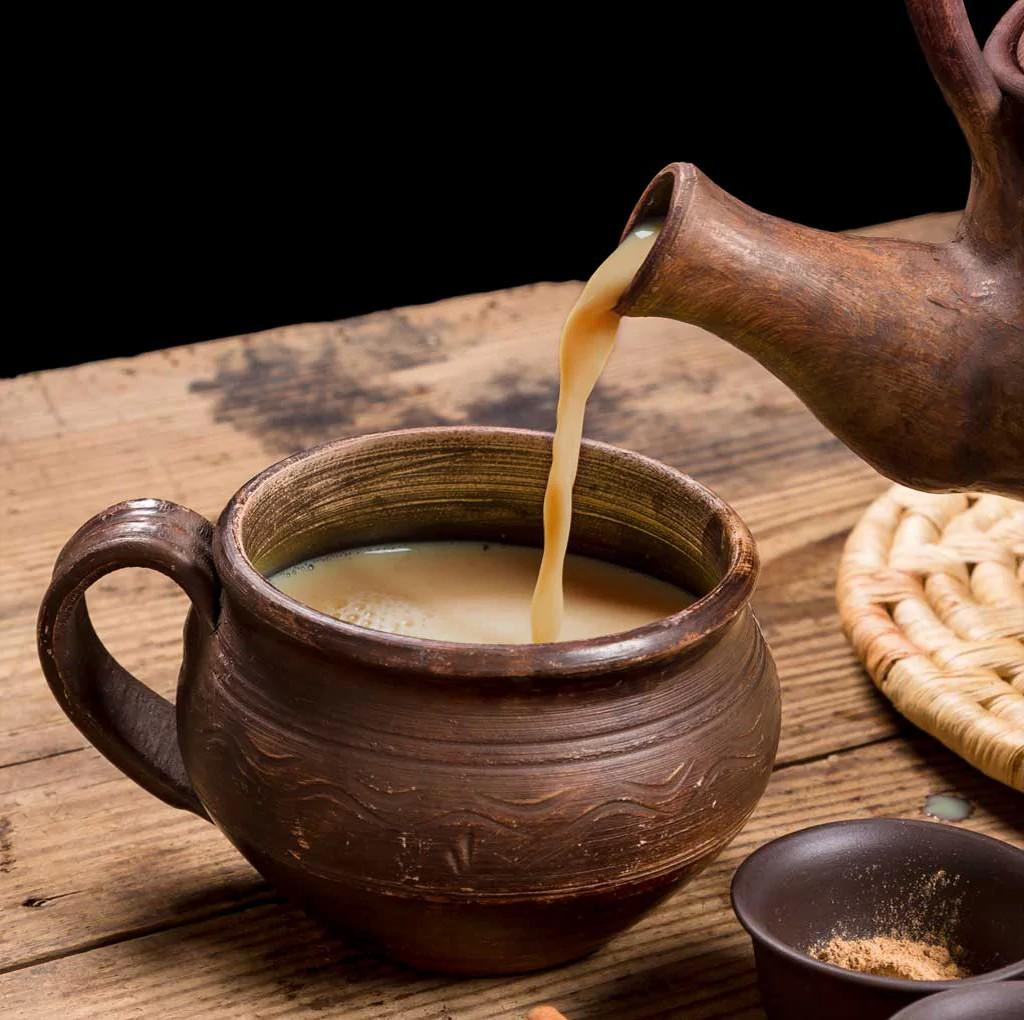Chai: (535, 219, 651, 616), (268, 540, 688, 643)
